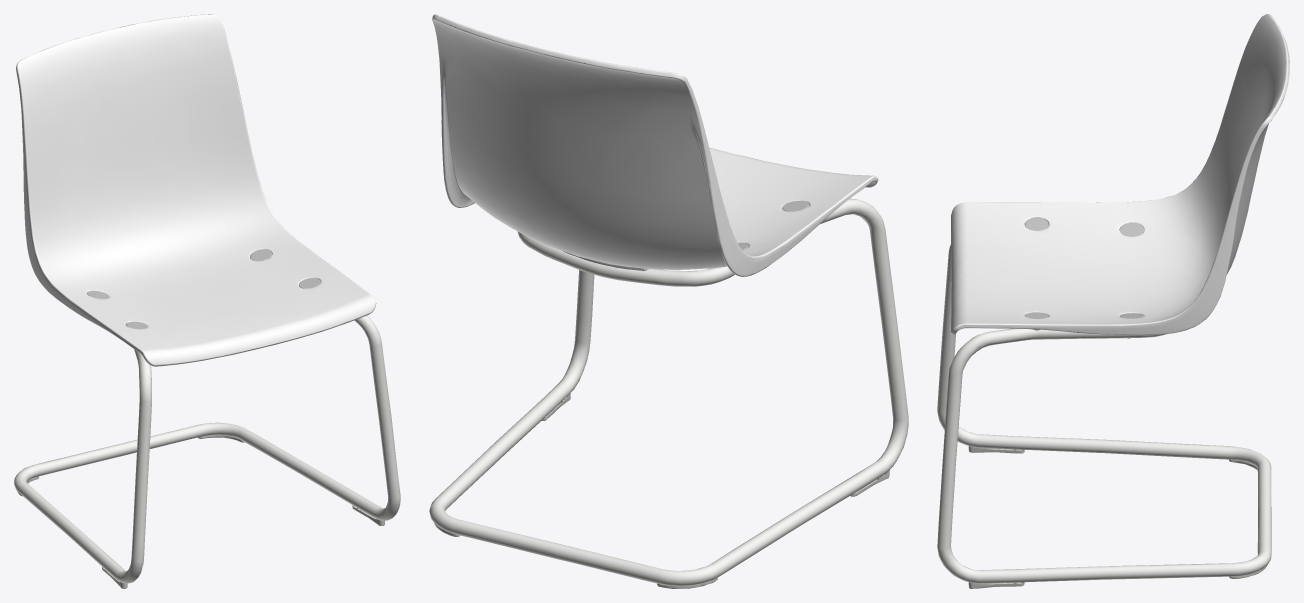
3 renders of one model, left to right at view 1: azimuth 30°, elevation 25°; view 2: azimuth 150°, elevation 25°; view 3: azimuth 270°, elevation 25°, orthographic. The views are drawn at different scales.
Visible parts, largest first — view 1: 2, 1; view 2: 2, 1; view 3: 2, 1.
Part boxes in pixels (x1,y1,x2,y2): 2: [16, 14, 376, 366]; 1: [14, 249, 400, 588]; 2: [432, 14, 878, 276]; 1: [429, 198, 908, 588]; 2: [950, 14, 1289, 335]; 1: [937, 217, 1271, 588].
Bounding box in the file's own units: 0.5481 × 0.8192 × 0.5738.
2 materials, 2 textured.
